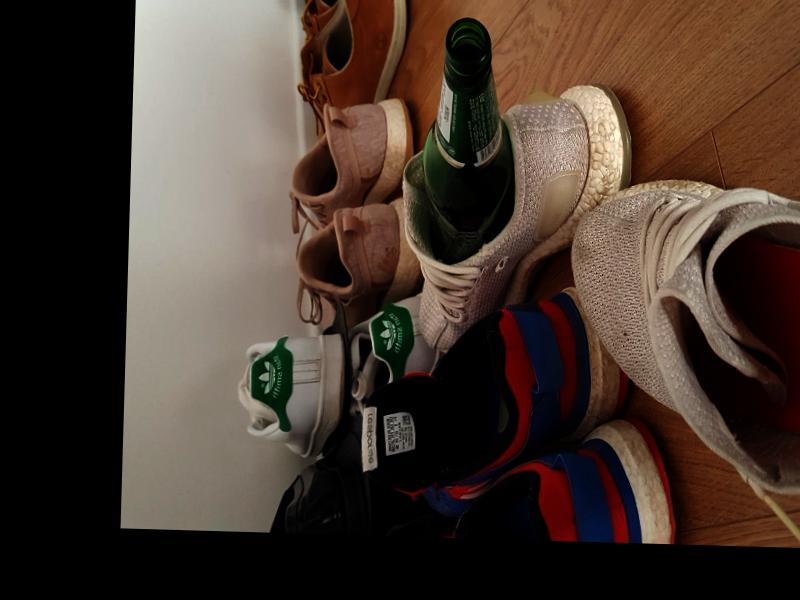Beer: (422, 17, 518, 265)
